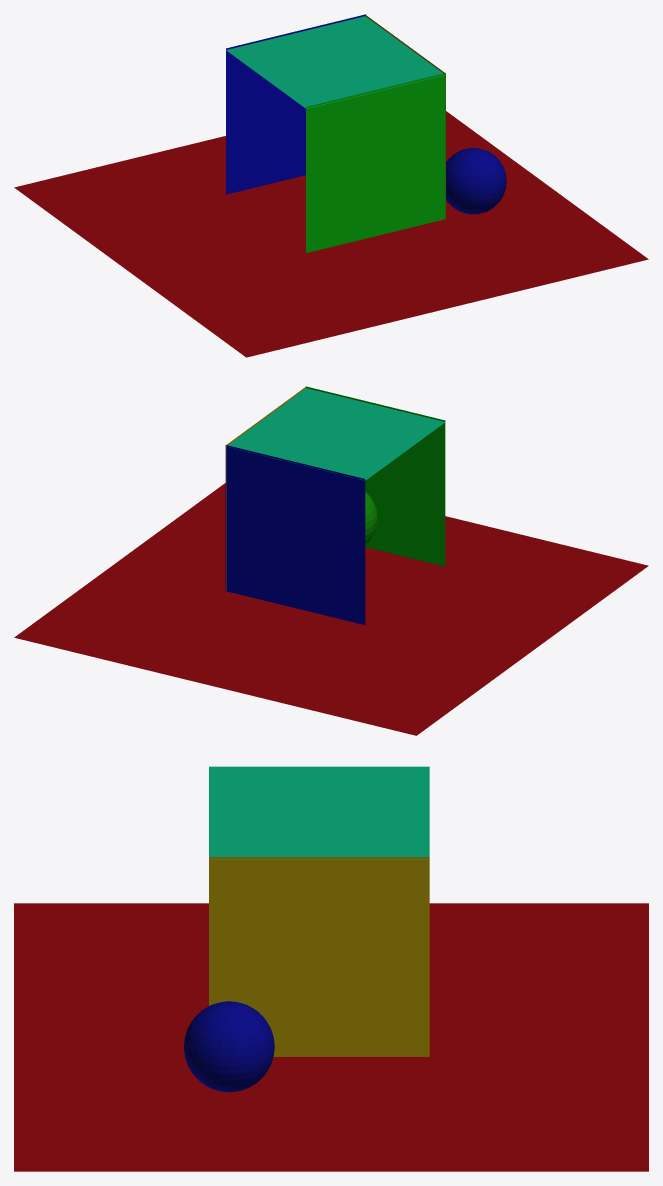
Rendered from sphereinroomobj.obj.
3 views of the same model, one above another, from view 1: azimuth 30°, elevation 25°; view 2: azimuth 150°, elevation 25°; view 3: azimuth 270°, elevation 25° (orthographic). The views are drawn at different scales.
Visible parts, largest first — view 1: Plane.006, Plane.004, Plane.003, Plane.005, Sphere.001; view 2: Plane.006, Plane.005, Plane.003, Plane.004; view 3: Plane.006, Plane.001, Plane.003, Sphere.001.
Boxes of the visible parts, x1,y1,x2,y2 form: Plane.006: [14, 111, 648, 357]; Plane.004: [306, 73, 445, 252]; Plane.003: [226, 16, 445, 108]; Plane.005: [226, 14, 365, 194]; Sphere.001: [446, 148, 506, 214]; Plane.006: [14, 483, 648, 735]; Plane.005: [225, 445, 365, 624]; Plane.003: [226, 388, 445, 480]; Plane.004: [306, 386, 445, 566]; Plane.006: [14, 903, 648, 1171]; Plane.001: [209, 857, 429, 1056]; Plane.003: [209, 766, 429, 859]; Sphere.001: [183, 1001, 274, 1092].
Size of the model in its own units: 5.76 by 2.27 by 5.76.
